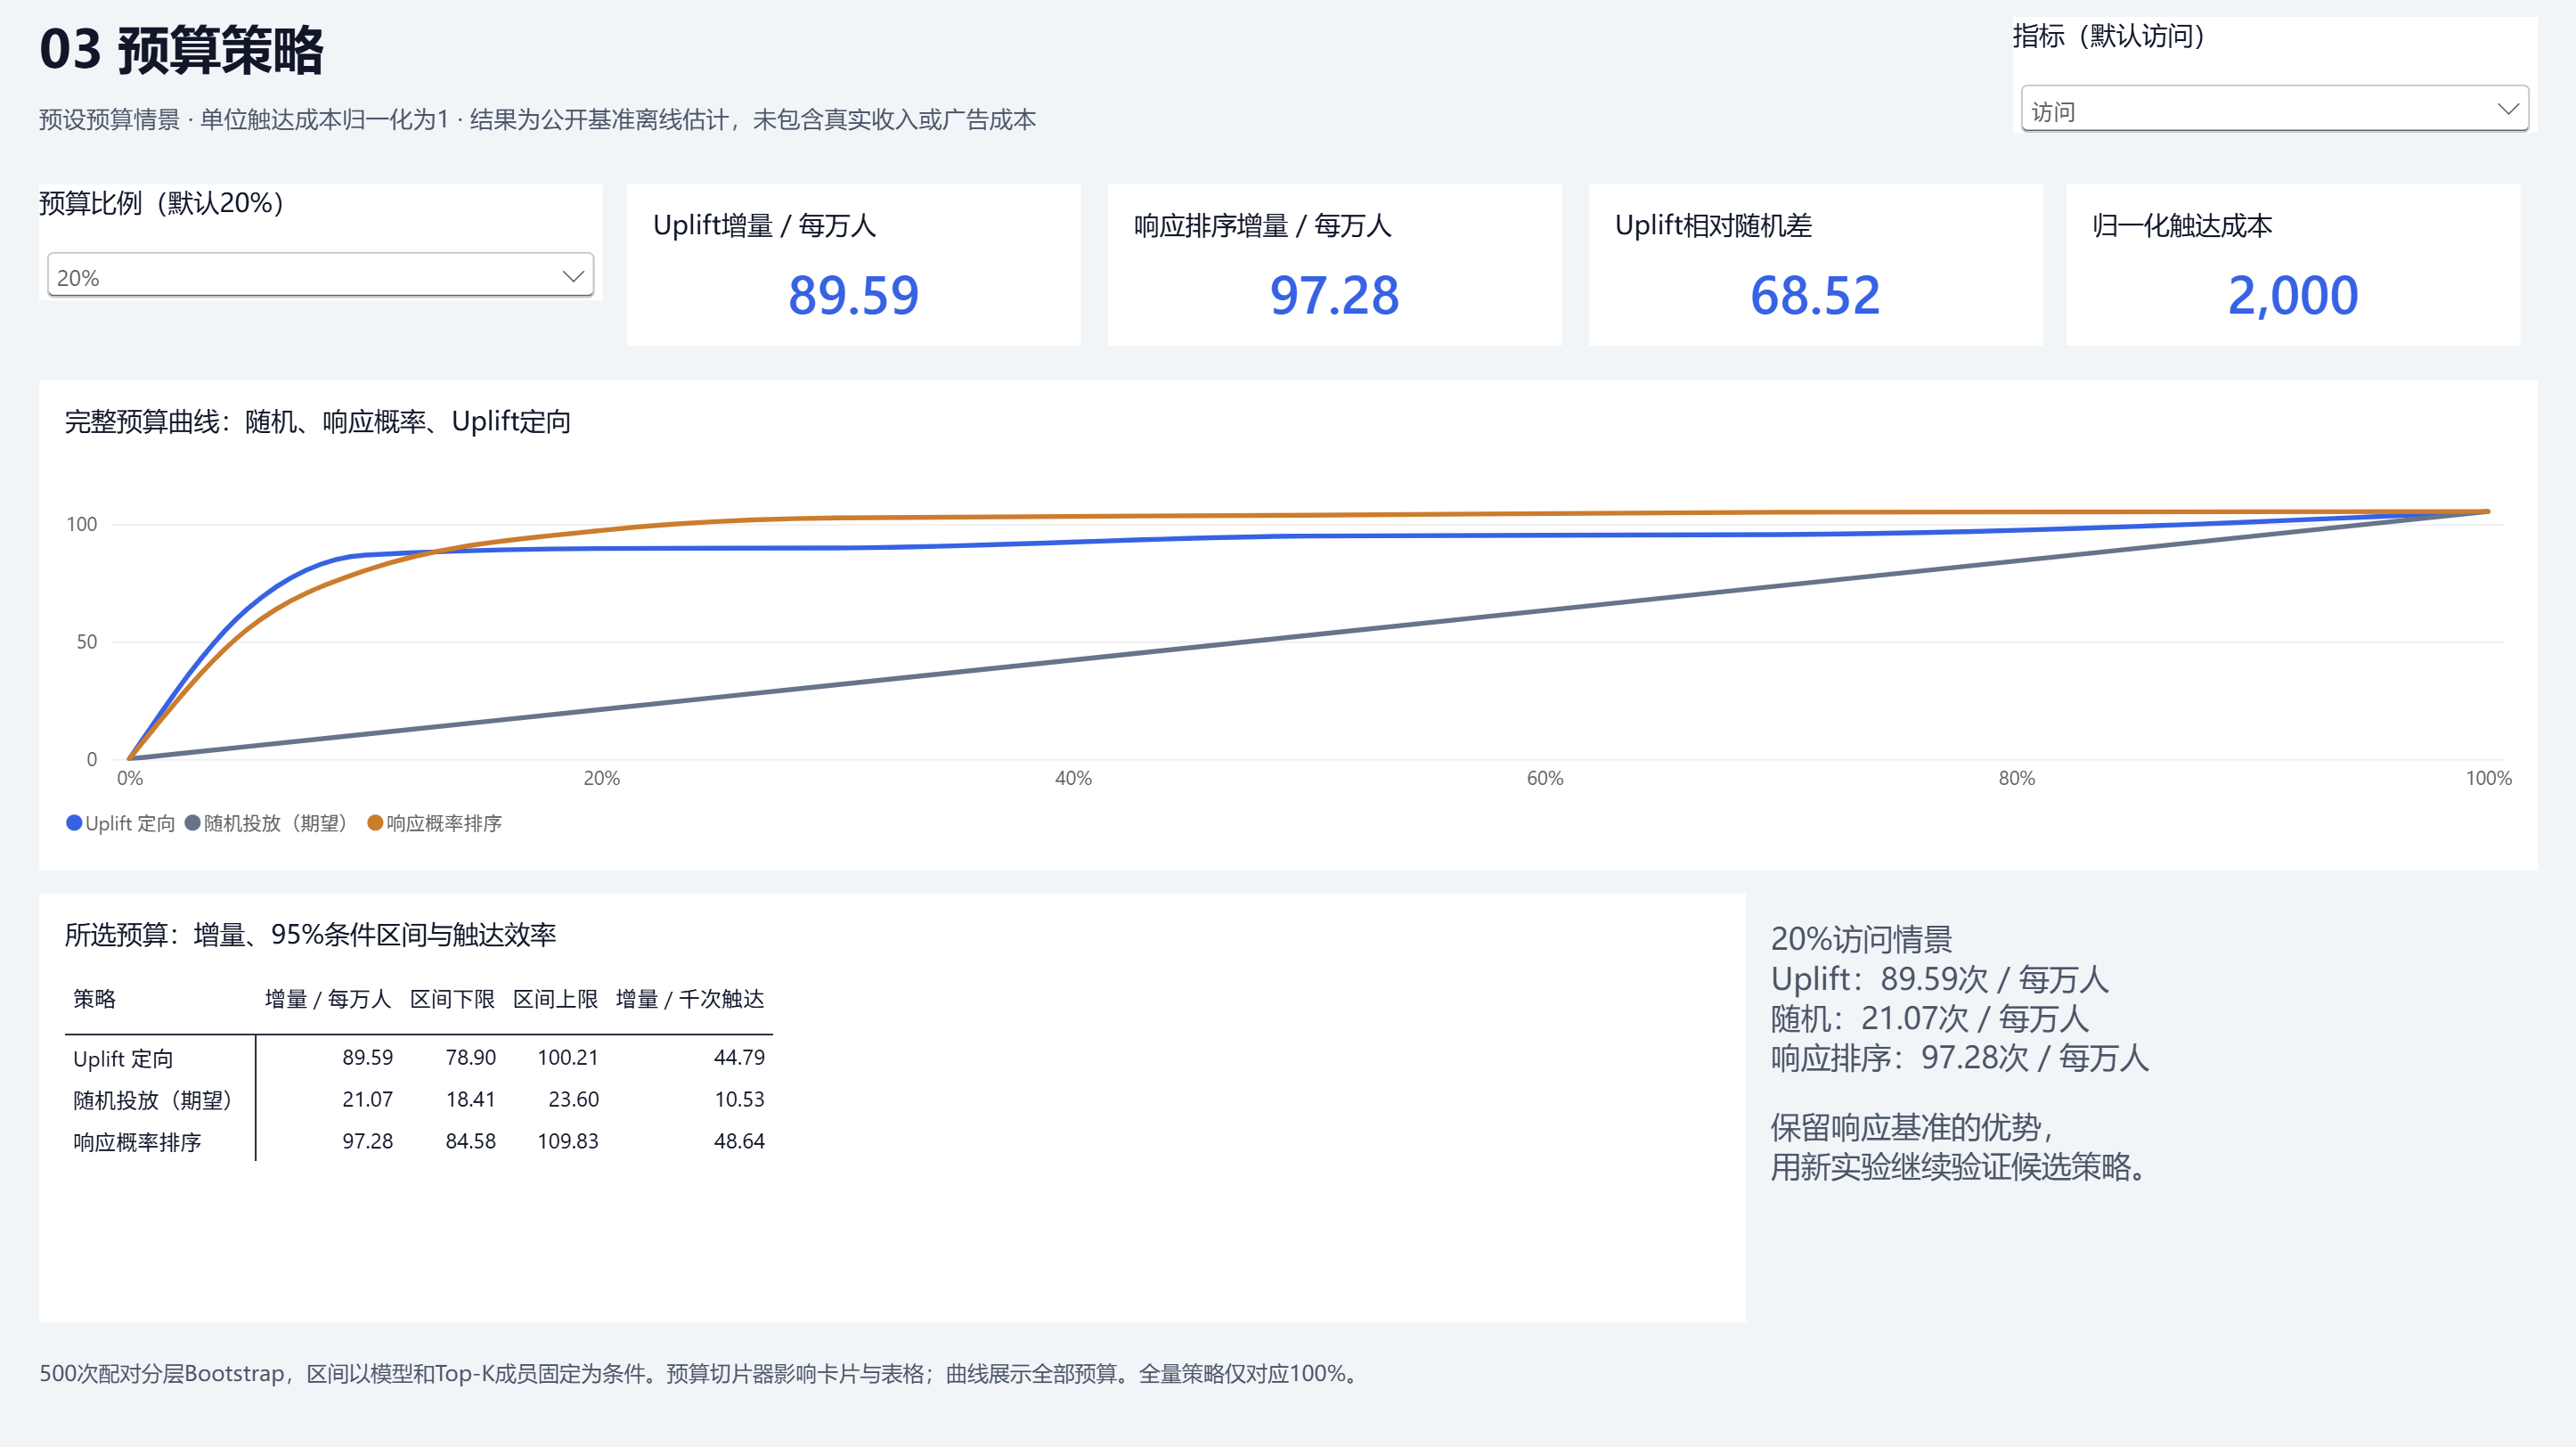

What the dashboard file says about the page in this screenshot:
{"tool":"powerbi","page":{"name":"03 预算策略","canvas":[1600,900],"ordinal":2},"visuals":[{"type":"textbox","box":[24,8,1180,56],"z":0},{"type":"slicer","title":"指标（默认访问）","fields":{"Values":["dim_outcome.outcome_label"]},"box":[1250,12,326,72],"z":0},{"type":"textbox","box":[24,64,1180,44],"z":0},{"type":"slicer","title":"预算比例（默认20%）","fields":{"Values":["dim_budget.budget_label"]},"box":[24,116,350,72],"z":0},{"type":"card","title":"Uplift增量 / 每万人","fields":{"Values":["Metrics.Uplift Budget Gain"]},"box":[390,116,282,100],"z":0},{"type":"card","title":"响应排序增量 / 每万人","fields":{"Values":["Metrics.Response Budget Gain"]},"box":[688,116,282,100],"z":0},{"type":"card","title":"Uplift相对随机差","fields":{"Values":["Metrics.Uplift Budget Advantage"]},"box":[986,116,282,100],"z":0},{"type":"card","title":"归一化触达成本","fields":{"Values":["Metrics.Normalized Cost"]},"box":[1284,116,282,100],"z":0},{"type":"lineChart","title":"完整预算曲线：随机、响应概率、Uplift定向","fields":{"Category":["budget_strategies.budget_fraction"],"Series":["dim_strategy.strategy_label"],"Y":["Metrics.Strategy Curve"]},"box":[24,236,1552,304],"z":0},{"type":"pivotTable","title":"所选预算：增量、95%条件区间与触达效率","fields":{"Rows":["dim_strategy.strategy_label"],"Values":["Metrics.Strategy Increment","Metrics.Strategy Lower","Metrics.Strategy Upper","Metrics.Strategy Efficiency"]},"box":[24,556,1060,266],"z":0},{"type":"textbox","box":[1100,572,470,244],"z":0},{"type":"textbox","box":[24,844,1552,40],"z":0}]}

Visuals, with their boxes in screenshot pixels (x1, y1, x2, y2), scaled from the page's 1600x900 canvas onto the 2576x1447 screenshot:
textbox: x1=38 y1=12 x2=1938 y2=102
"指标（默认访问）" slicer: x1=2012 y1=20 x2=2538 y2=135
textbox: x1=38 y1=102 x2=1938 y2=174
"预算比例（默认20%）" slicer: x1=38 y1=186 x2=602 y2=302
"Uplift增量 / 每万人" card: x1=628 y1=186 x2=1082 y2=347
"响应排序增量 / 每万人" card: x1=1108 y1=186 x2=1561 y2=347
"Uplift相对随机差" card: x1=1587 y1=186 x2=2042 y2=347
"归一化触达成本" card: x1=2067 y1=186 x2=2522 y2=347
"完整预算曲线：随机、响应概率、Uplift定向" lineChart: x1=38 y1=380 x2=2538 y2=868
"所选预算：增量、95%条件区间与触达效率" pivotTable: x1=38 y1=894 x2=1745 y2=1321
textbox: x1=1771 y1=920 x2=2528 y2=1312
textbox: x1=38 y1=1357 x2=2538 y2=1421
